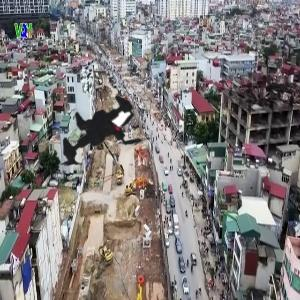drone: (34, 70, 173, 209)
